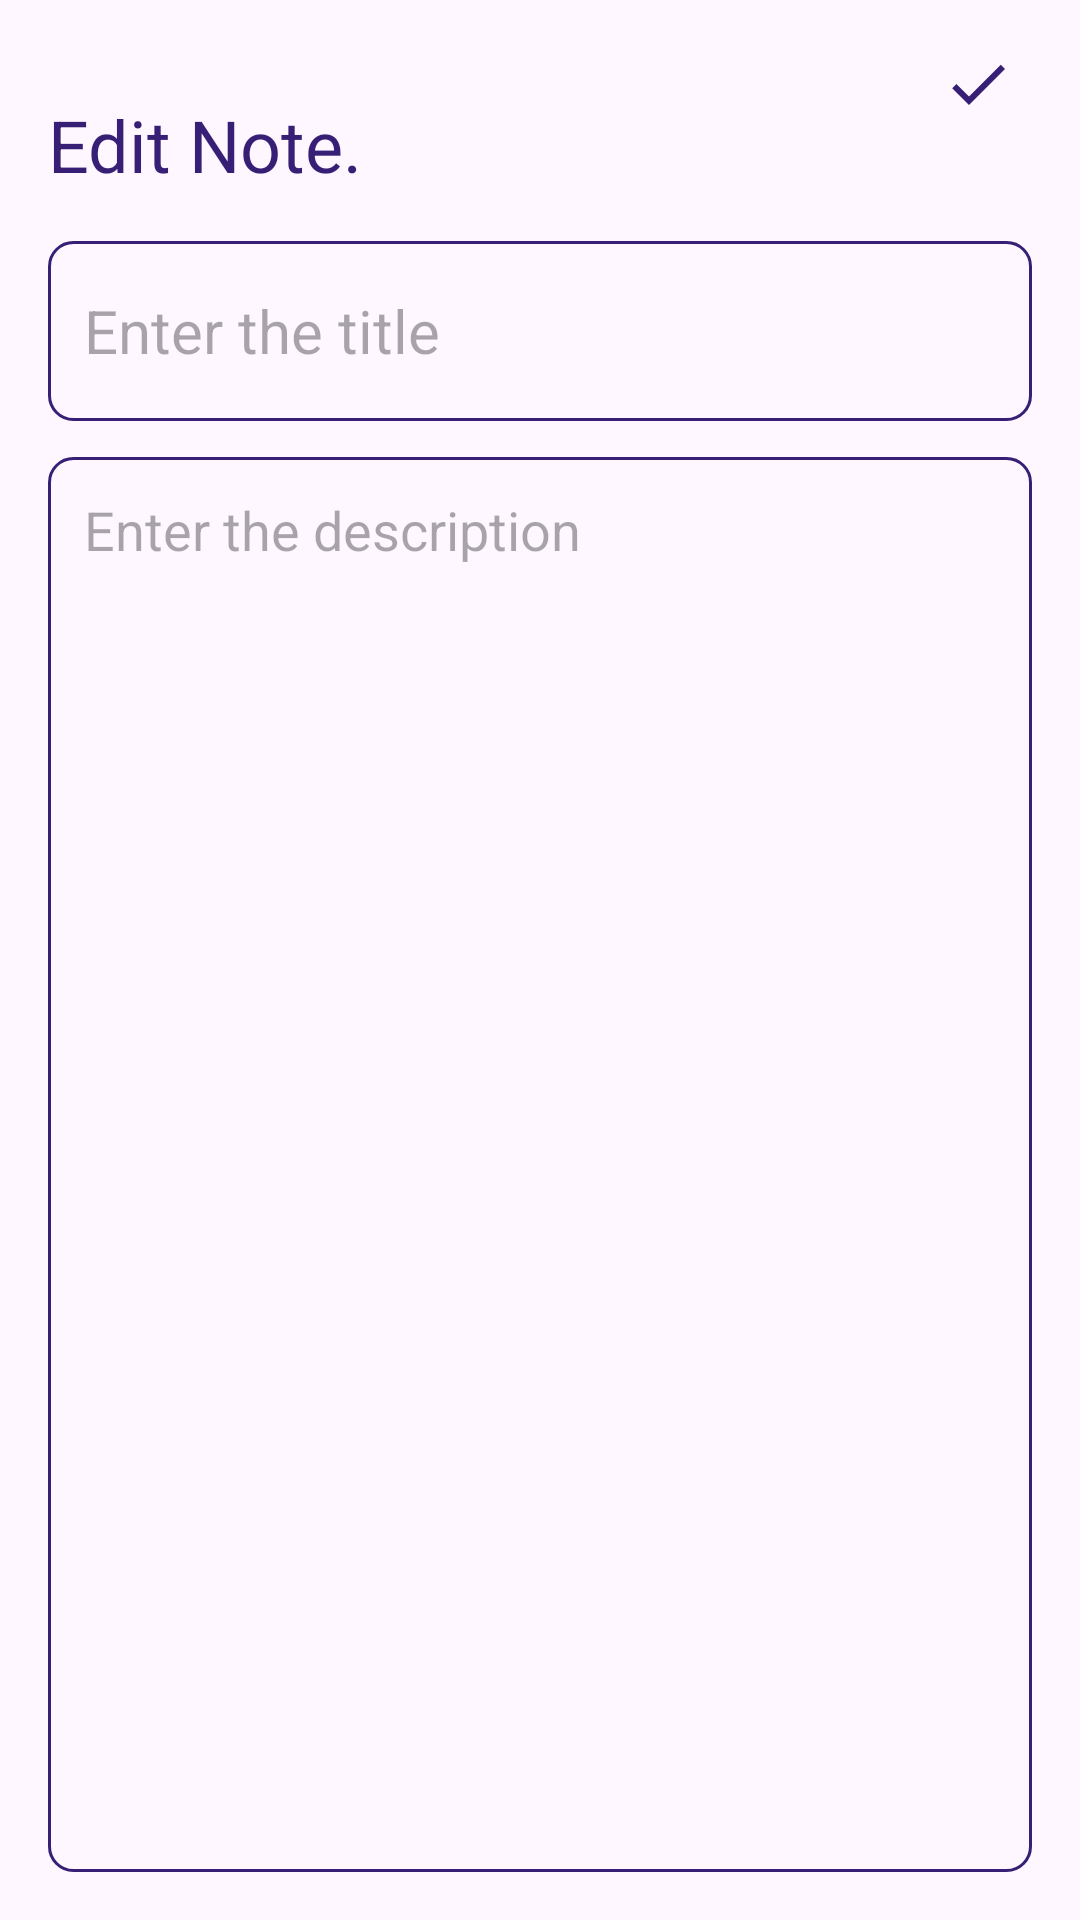

Named icons in this screenshot (1080 x 1920) and their centers, (x=x, y=y):
done: (x=978, y=85)
